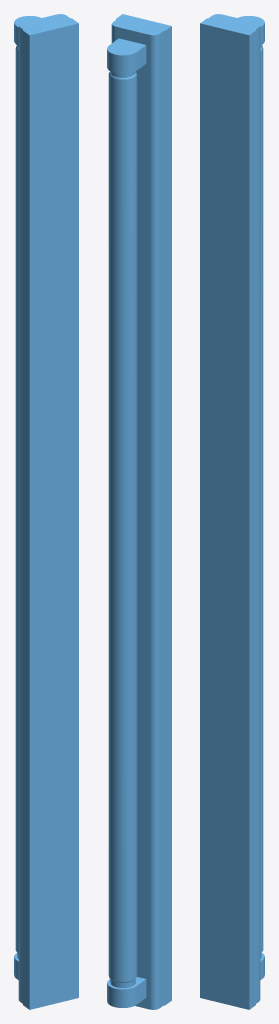
The model's file is Classic_fluorescent_lamp.fbx.
3 views of the same model, side by side, from view 1: azimuth 30°, elevation 25°; view 2: azimuth 150°, elevation 25°; view 3: azimuth 330°, elevation 25° (orthographic).
Parts seen in each view (by area): view 1: Lamp1; view 2: Lamp1; view 3: Lamp1.
Boxes of the visible parts, left/top/right/bottom form: Lamp1: left=14, top=14, right=78, bottom=1009; Lamp1: left=107, top=14, right=171, bottom=1009; Lamp1: left=200, top=14, right=264, bottom=1009.
Size of the model in its own units: 5.02 by 94.96 by 5.69.
